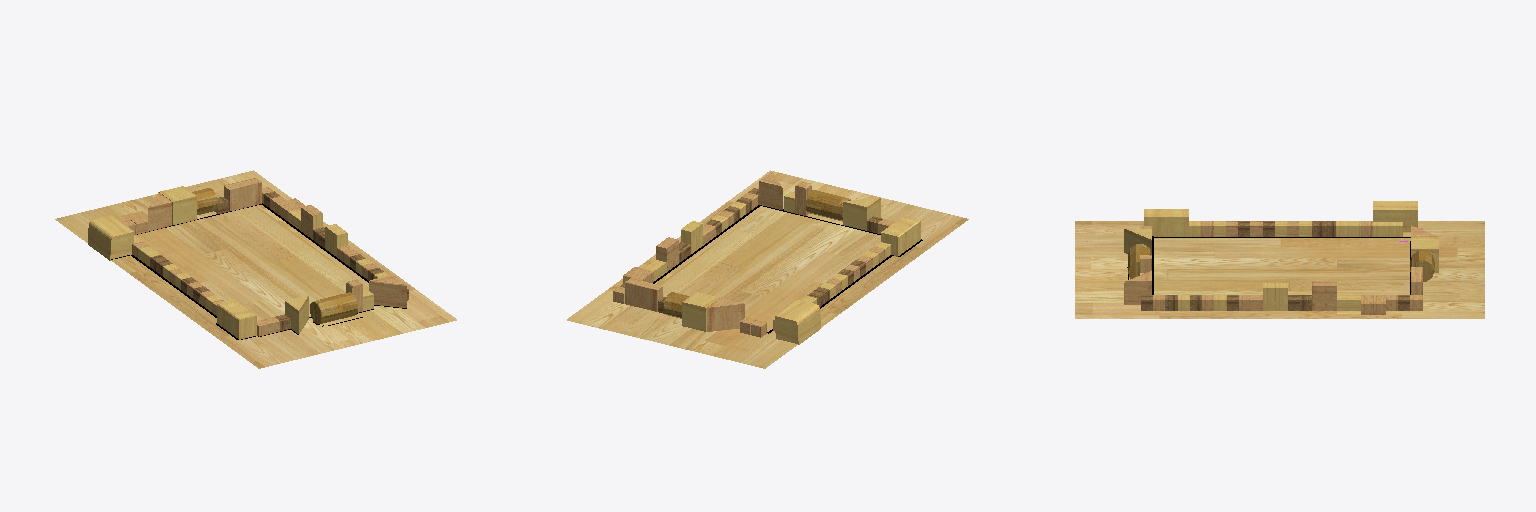
The picture shows the model from 3 angles: view 1: azimuth 30°, elevation 25°; view 2: azimuth 150°, elevation 25°; view 3: azimuth 270°, elevation 25°; orthographic projection.
Parts seen in each view (by area): view 1: Plane, Bottom_Cube.004, Right_Cube.006, Left_Cube.005, Top_Cube.001; view 2: Plane, Bottom_Cube.004, Left_Cube.005, Top_Cube.001, Right_Cube.006; view 3: Plane, Bottom_Cube.004, Top_Cube.001, Right_Cube.006, Left_Cube.005.
Part boxes in pixels (left/top/right/bottom): Plane: left=55, top=170, right=456, bottom=368; Bottom_Cube.004: left=88, top=215, right=256, bottom=339; Right_Cube.006: left=257, top=275, right=406, bottom=336; Left_Cube.005: left=122, top=178, right=262, bottom=234; Top_Cube.001: left=111, top=187, right=408, bottom=339; Plane: left=567, top=170, right=968, bottom=368; Bottom_Cube.004: left=773, top=216, right=920, bottom=344; Left_Cube.005: left=625, top=278, right=766, bottom=337; Top_Cube.001: left=613, top=188, right=922, bottom=333; Right_Cube.006: left=759, top=172, right=894, bottom=234; Plane: left=1075, top=221, right=1484, bottom=318; Bottom_Cube.004: left=1144, top=201, right=1417, bottom=236; Top_Cube.001: left=1127, top=237, right=1422, bottom=314; Right_Cube.006: left=1124, top=226, right=1153, bottom=304; Left_Cube.005: left=1399, top=225, right=1438, bottom=294.
Bounding box in the file's own units: 38.09 × 5.31 × 67.5.
Materials: 2 (1 with a texture image).